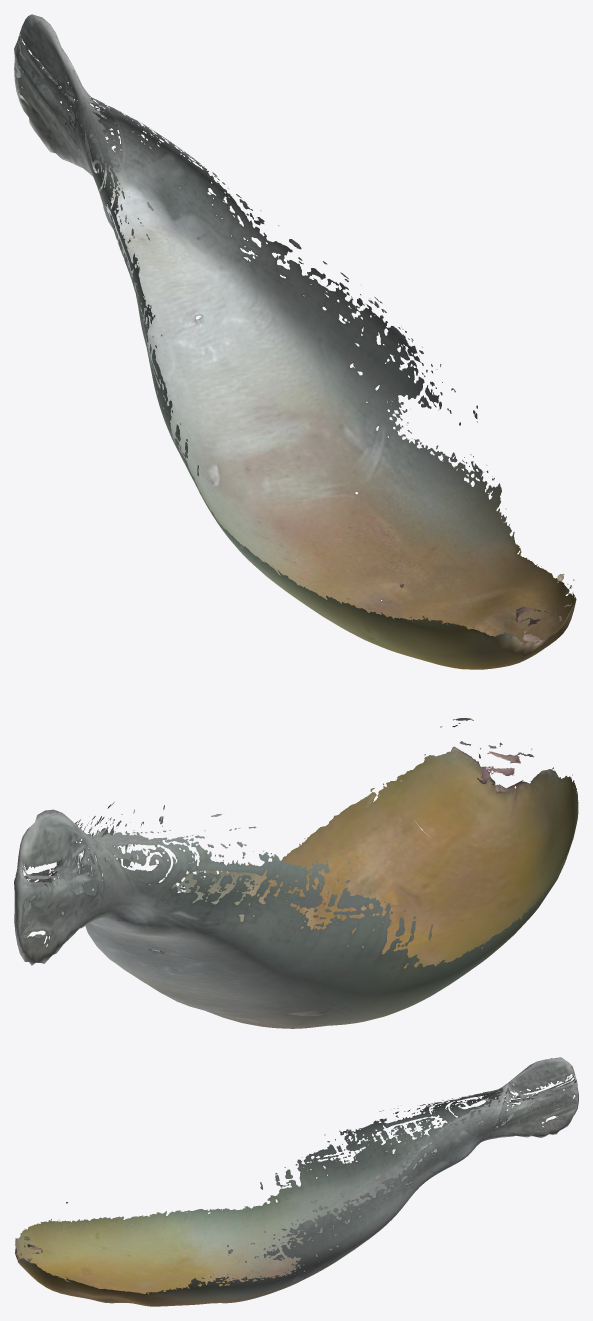
Rendered from blobfish.fbx.
3 renders of one model, top to bottom at view 1: azimuth 30°, elevation 25°; view 2: azimuth 150°, elevation 25°; view 3: azimuth 270°, elevation 25°, orthographic. The views are drawn at different scales.
Parts seen in each view (by area): view 1: blobfish_remesh; view 2: blobfish_remesh; view 3: blobfish_remesh.
Part boxes in pixels (bbox=[...]): blobfish_remesh: bbox=[14, 14, 576, 669]; blobfish_remesh: bbox=[14, 718, 578, 1028]; blobfish_remesh: bbox=[15, 1057, 578, 1306].
Bounding box in the file's own units: 63.29 × 88.36 × 198.
1 material, 1 textured.
